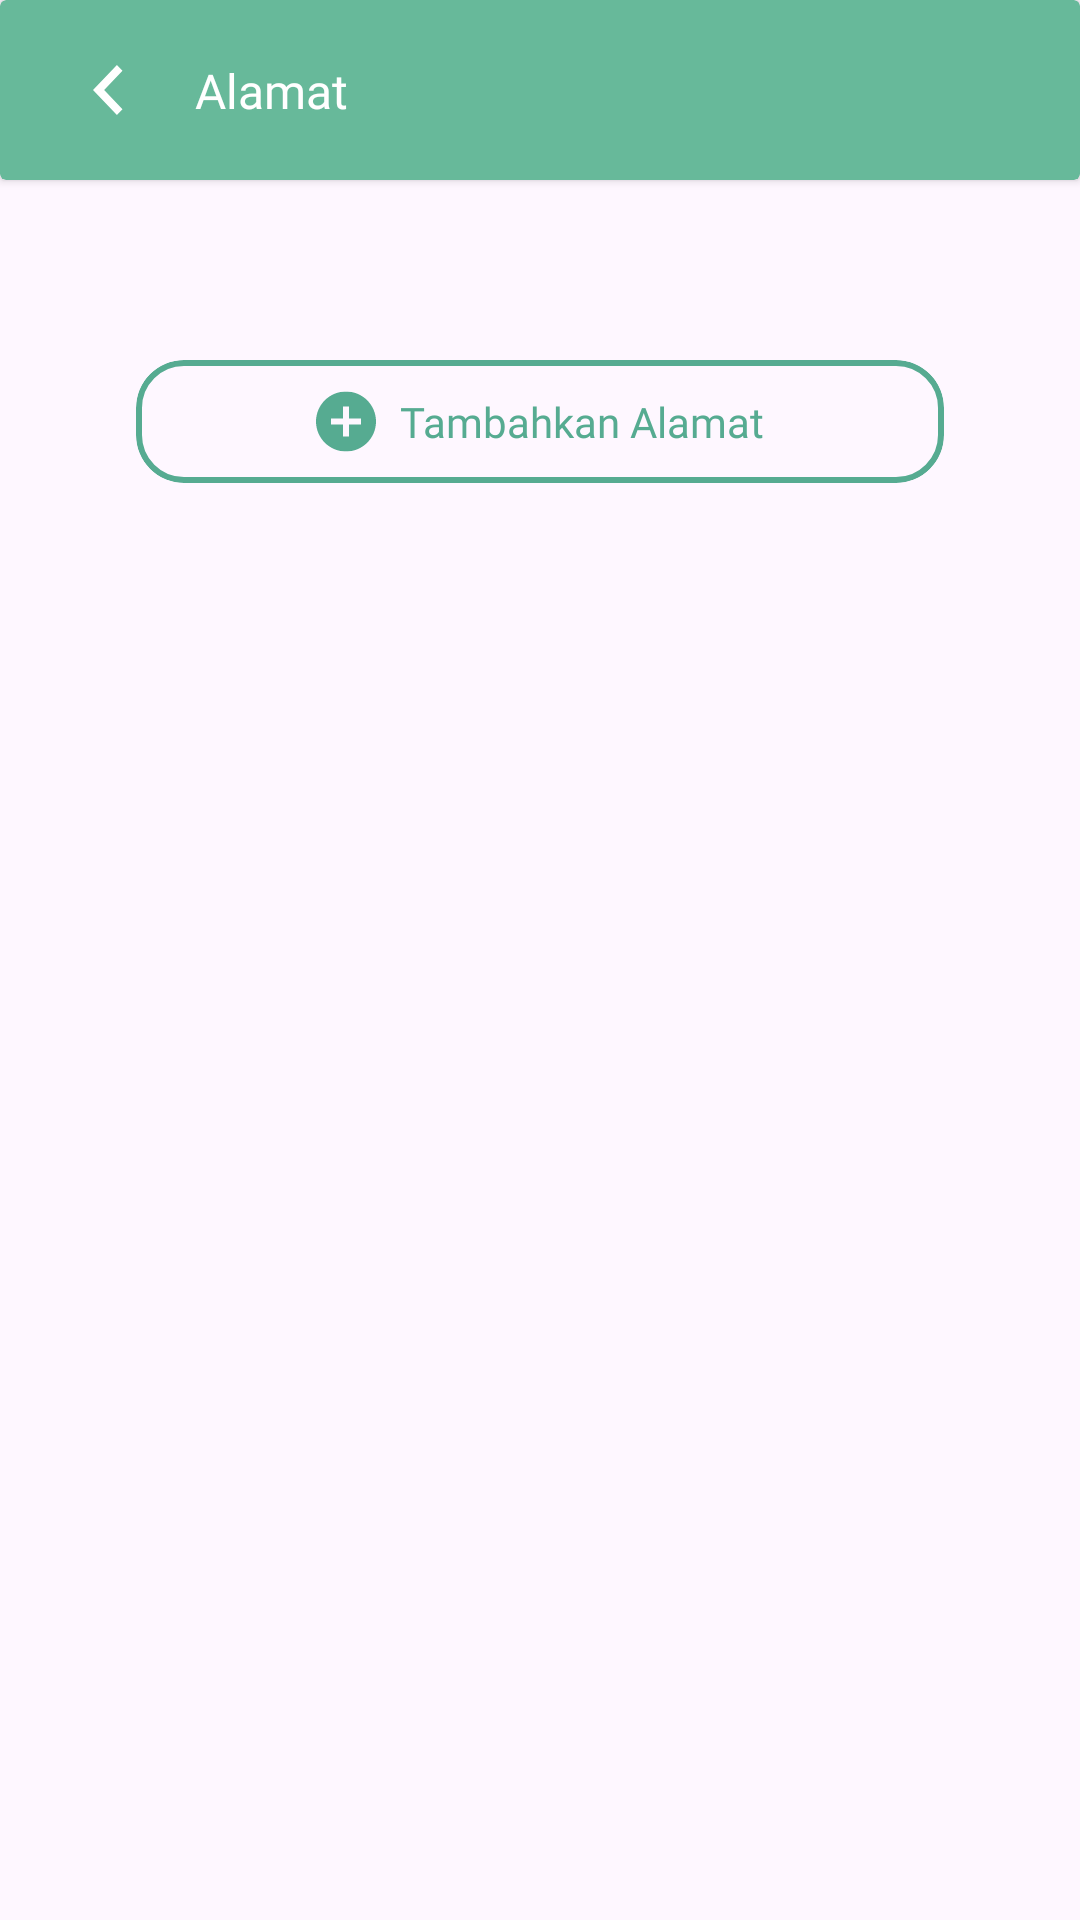

Screen size 1080×1920. Icon name, then its box in pixels as (x1, y1, x2, y2):
back: (93, 65, 123, 115)
